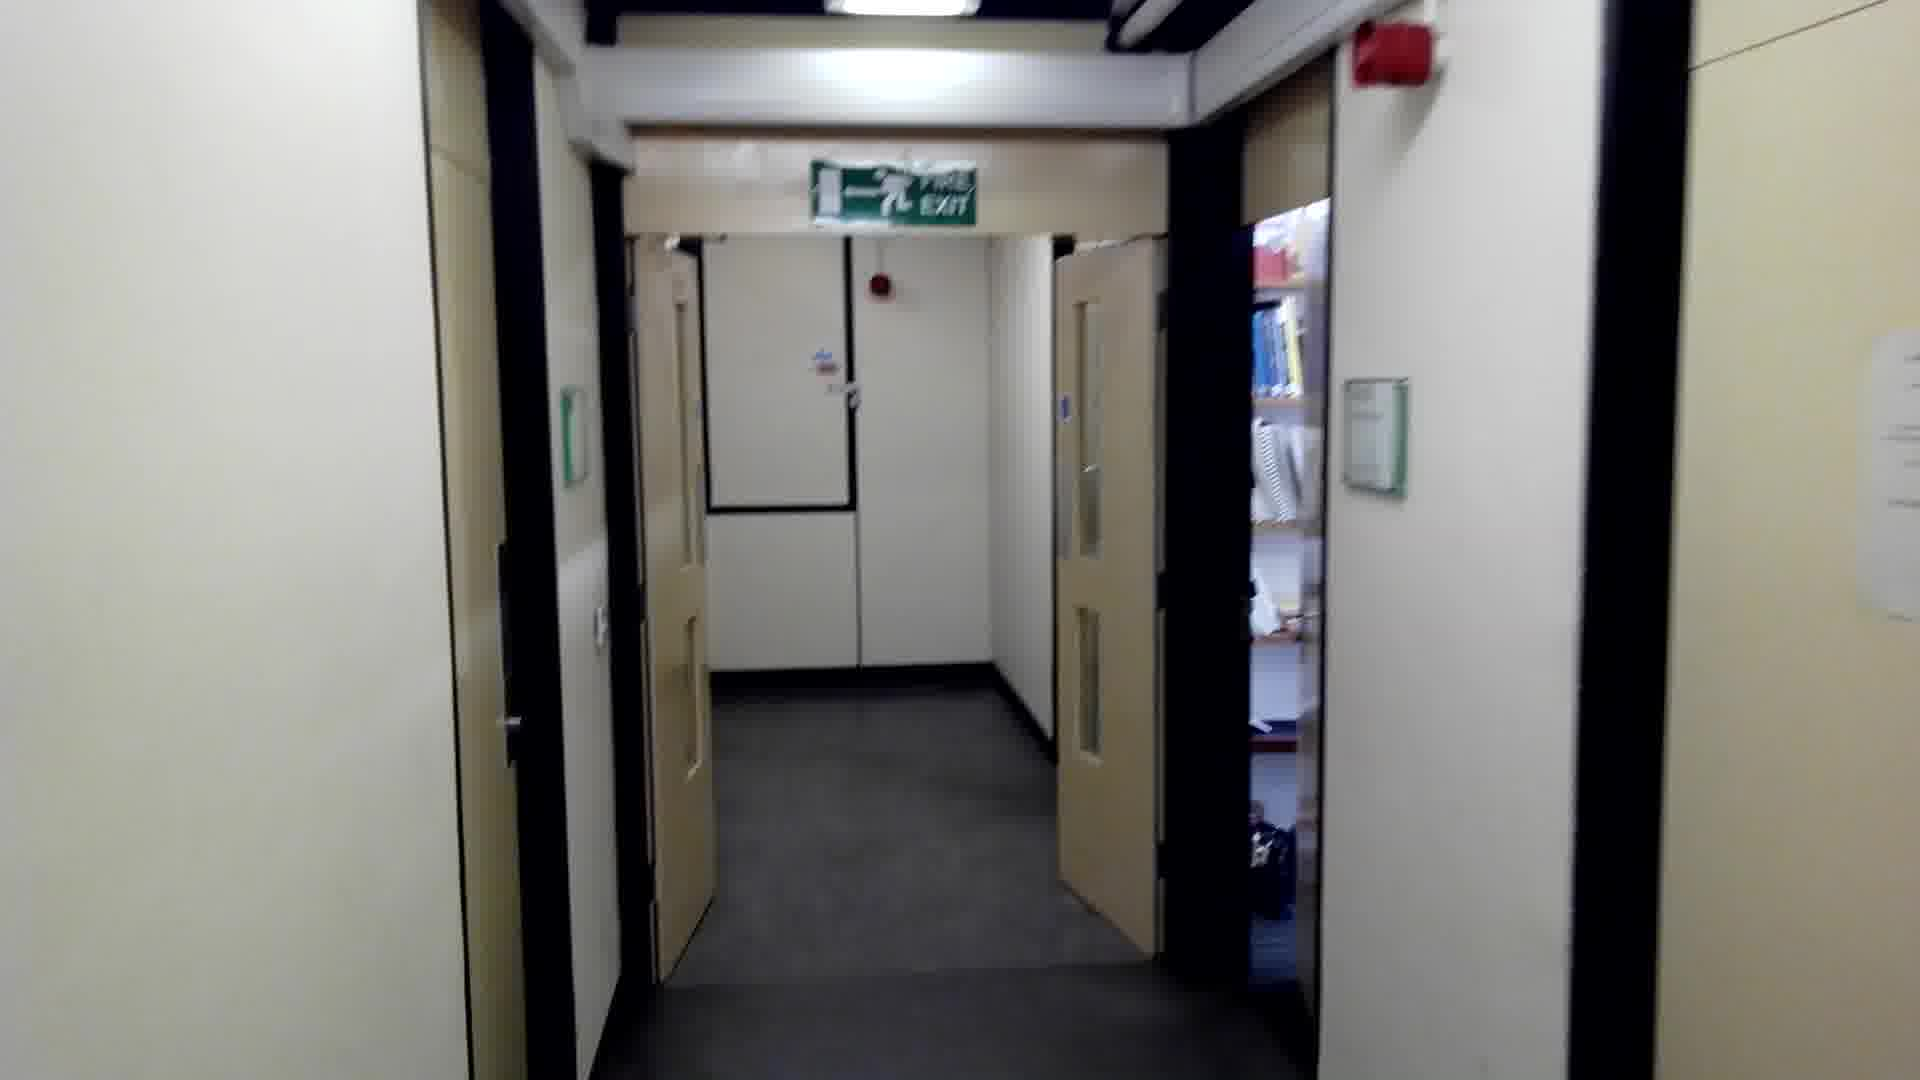Door: (410, 137, 585, 1080), (607, 225, 733, 992), (1044, 229, 1168, 993)
